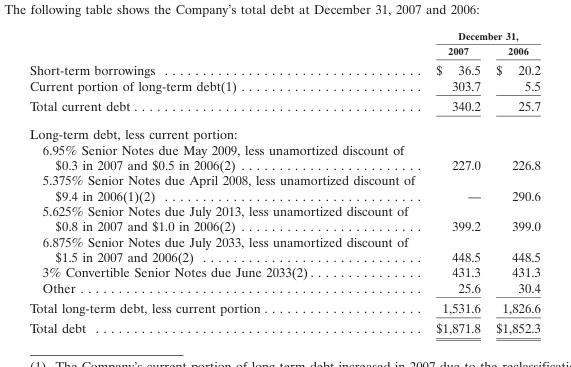table: (29, 29, 539, 335)
table column: (29, 29, 424, 335), (424, 29, 487, 335), (487, 29, 539, 335)
table column header: (29, 29, 539, 59)
table projected row header: (29, 119, 539, 141)
table row: (29, 141, 539, 172), (29, 202, 539, 233), (29, 233, 539, 264), (29, 172, 539, 202), (29, 95, 539, 119), (29, 119, 539, 141), (29, 297, 539, 317), (29, 59, 539, 77), (29, 77, 539, 95), (29, 279, 539, 297), (29, 317, 539, 335), (29, 42, 539, 59), (29, 264, 539, 279), (29, 29, 539, 42)
table spanning cell: (424, 29, 539, 42)
